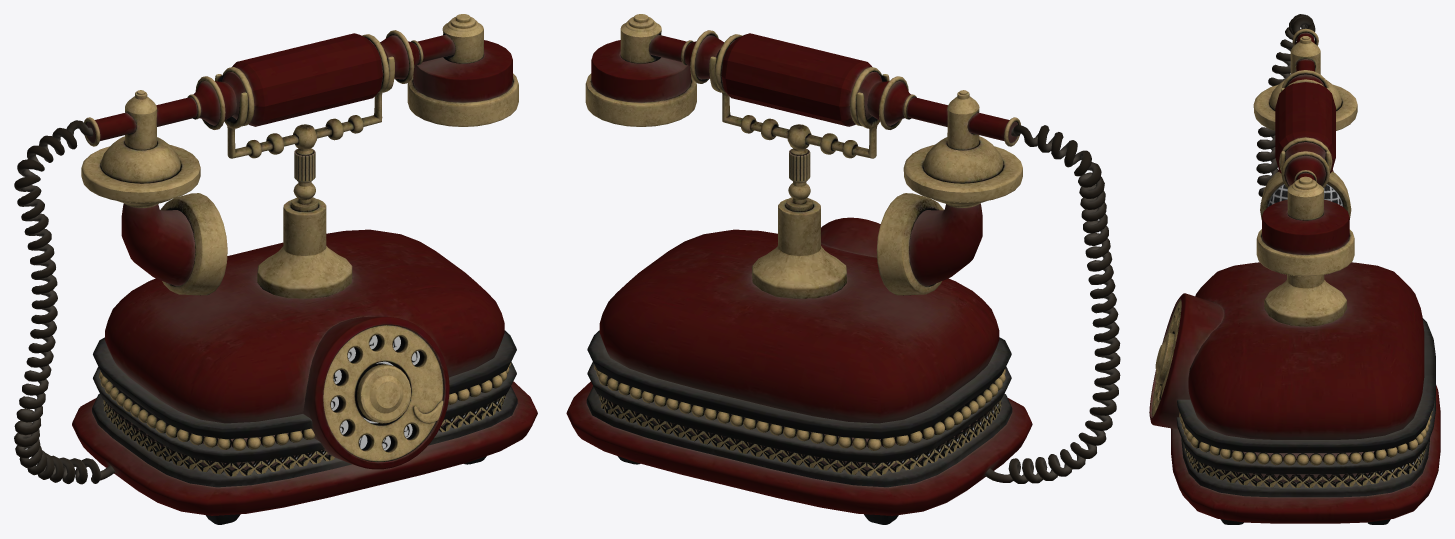
The model's file is ev-call.opt.glb.
3 views of the same model, side by side, from view 1: azimuth 30°, elevation 25°; view 2: azimuth 150°, elevation 25°; view 3: azimuth 270°, elevation 25° (orthographic). The views are drawn at different scales.
Visible parts, largest first — view 1: Right_Cylinder_Wood_0, Right_Cone_Gold_0, pHelix2_Black_0; view 2: Right_Cylinder_Wood_0, Right_Cone_Gold_0, pHelix2_Black_0; view 3: Right_Cylinder_Wood_0, Right_Cone_Gold_0, pHelix2_Black_0.
Part boxes in pixels (box(x1,y1,x2,y2)): Right_Cylinder_Wood_0: box(72, 33, 537, 515); Right_Cone_Gold_0: box(81, 14, 518, 476); pHelix2_Black_0: box(14, 120, 517, 524); Right_Cylinder_Wood_0: box(566, 33, 1032, 515); Right_Cone_Gold_0: box(585, 14, 1022, 476); pHelix2_Black_0: box(586, 125, 1120, 524); Right_Cylinder_Wood_0: box(1149, 32, 1440, 523); Right_Cone_Gold_0: box(1152, 28, 1432, 487); pHelix2_Black_0: box(1176, 14, 1435, 524).
Size of the model in its own units: 0.2676 by 0.2057 by 0.1502.
3 materials, 3 textured.
